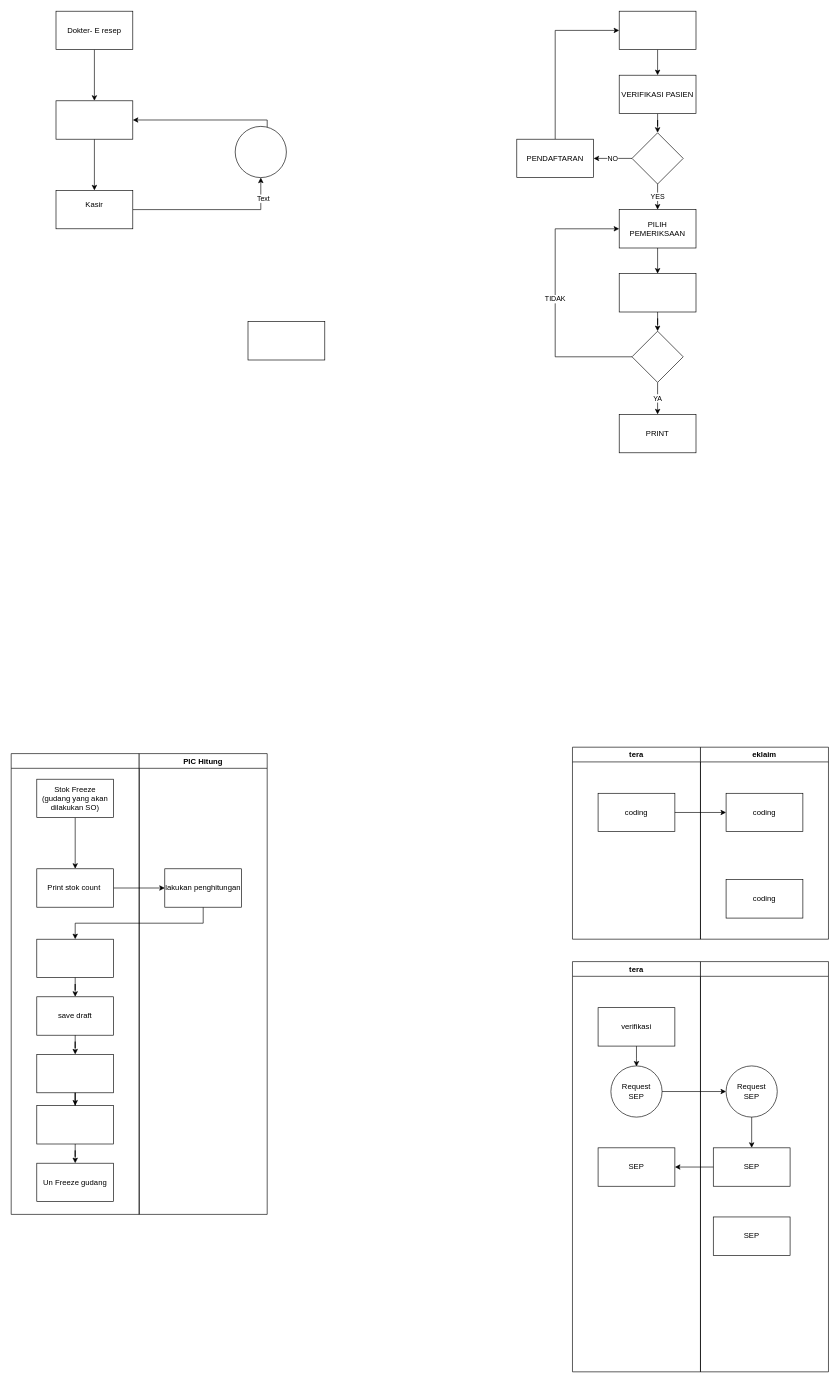
Image size: 840x1383. Some labels were removed from this diagram. The box of each missing label's shape, as (x1, y1, x2, y2) in pixels:
ADA RM: (631, 132, 683, 184)
Bank: (247, 321, 325, 360)
Berhasil: (631, 331, 683, 382)
cek selisih / pergerakan: (36, 1054, 114, 1093)
Create Antrian: (235, 126, 286, 178)
Farmasi - konfirmasi / tidak: (55, 100, 133, 139)
Input ke sistem: (36, 939, 114, 978)
KIOSK: (619, 11, 696, 50)
Muncul QR CODE: (619, 273, 696, 312)
PIC SO: (11, 753, 139, 1214)
save final: (36, 1105, 114, 1144)
Vclaim: (700, 961, 828, 1372)
